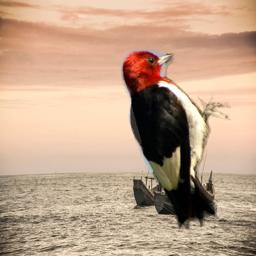Woodpecker: (120, 49, 231, 232)
